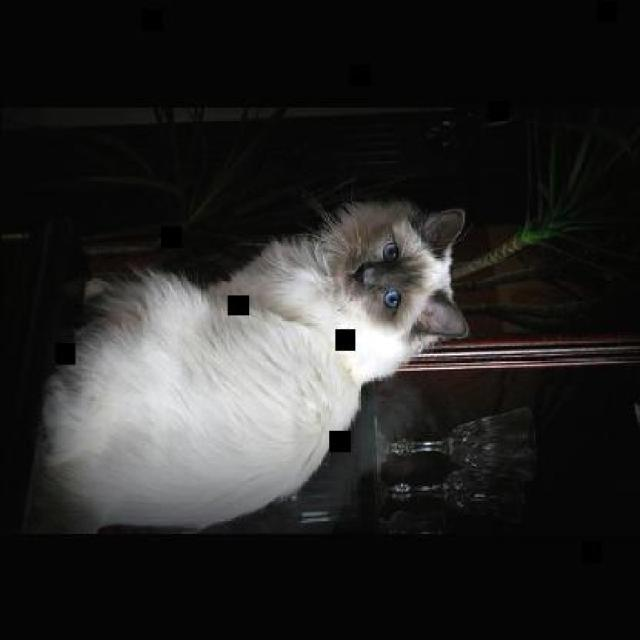unauthorized: (22, 195, 470, 534)
